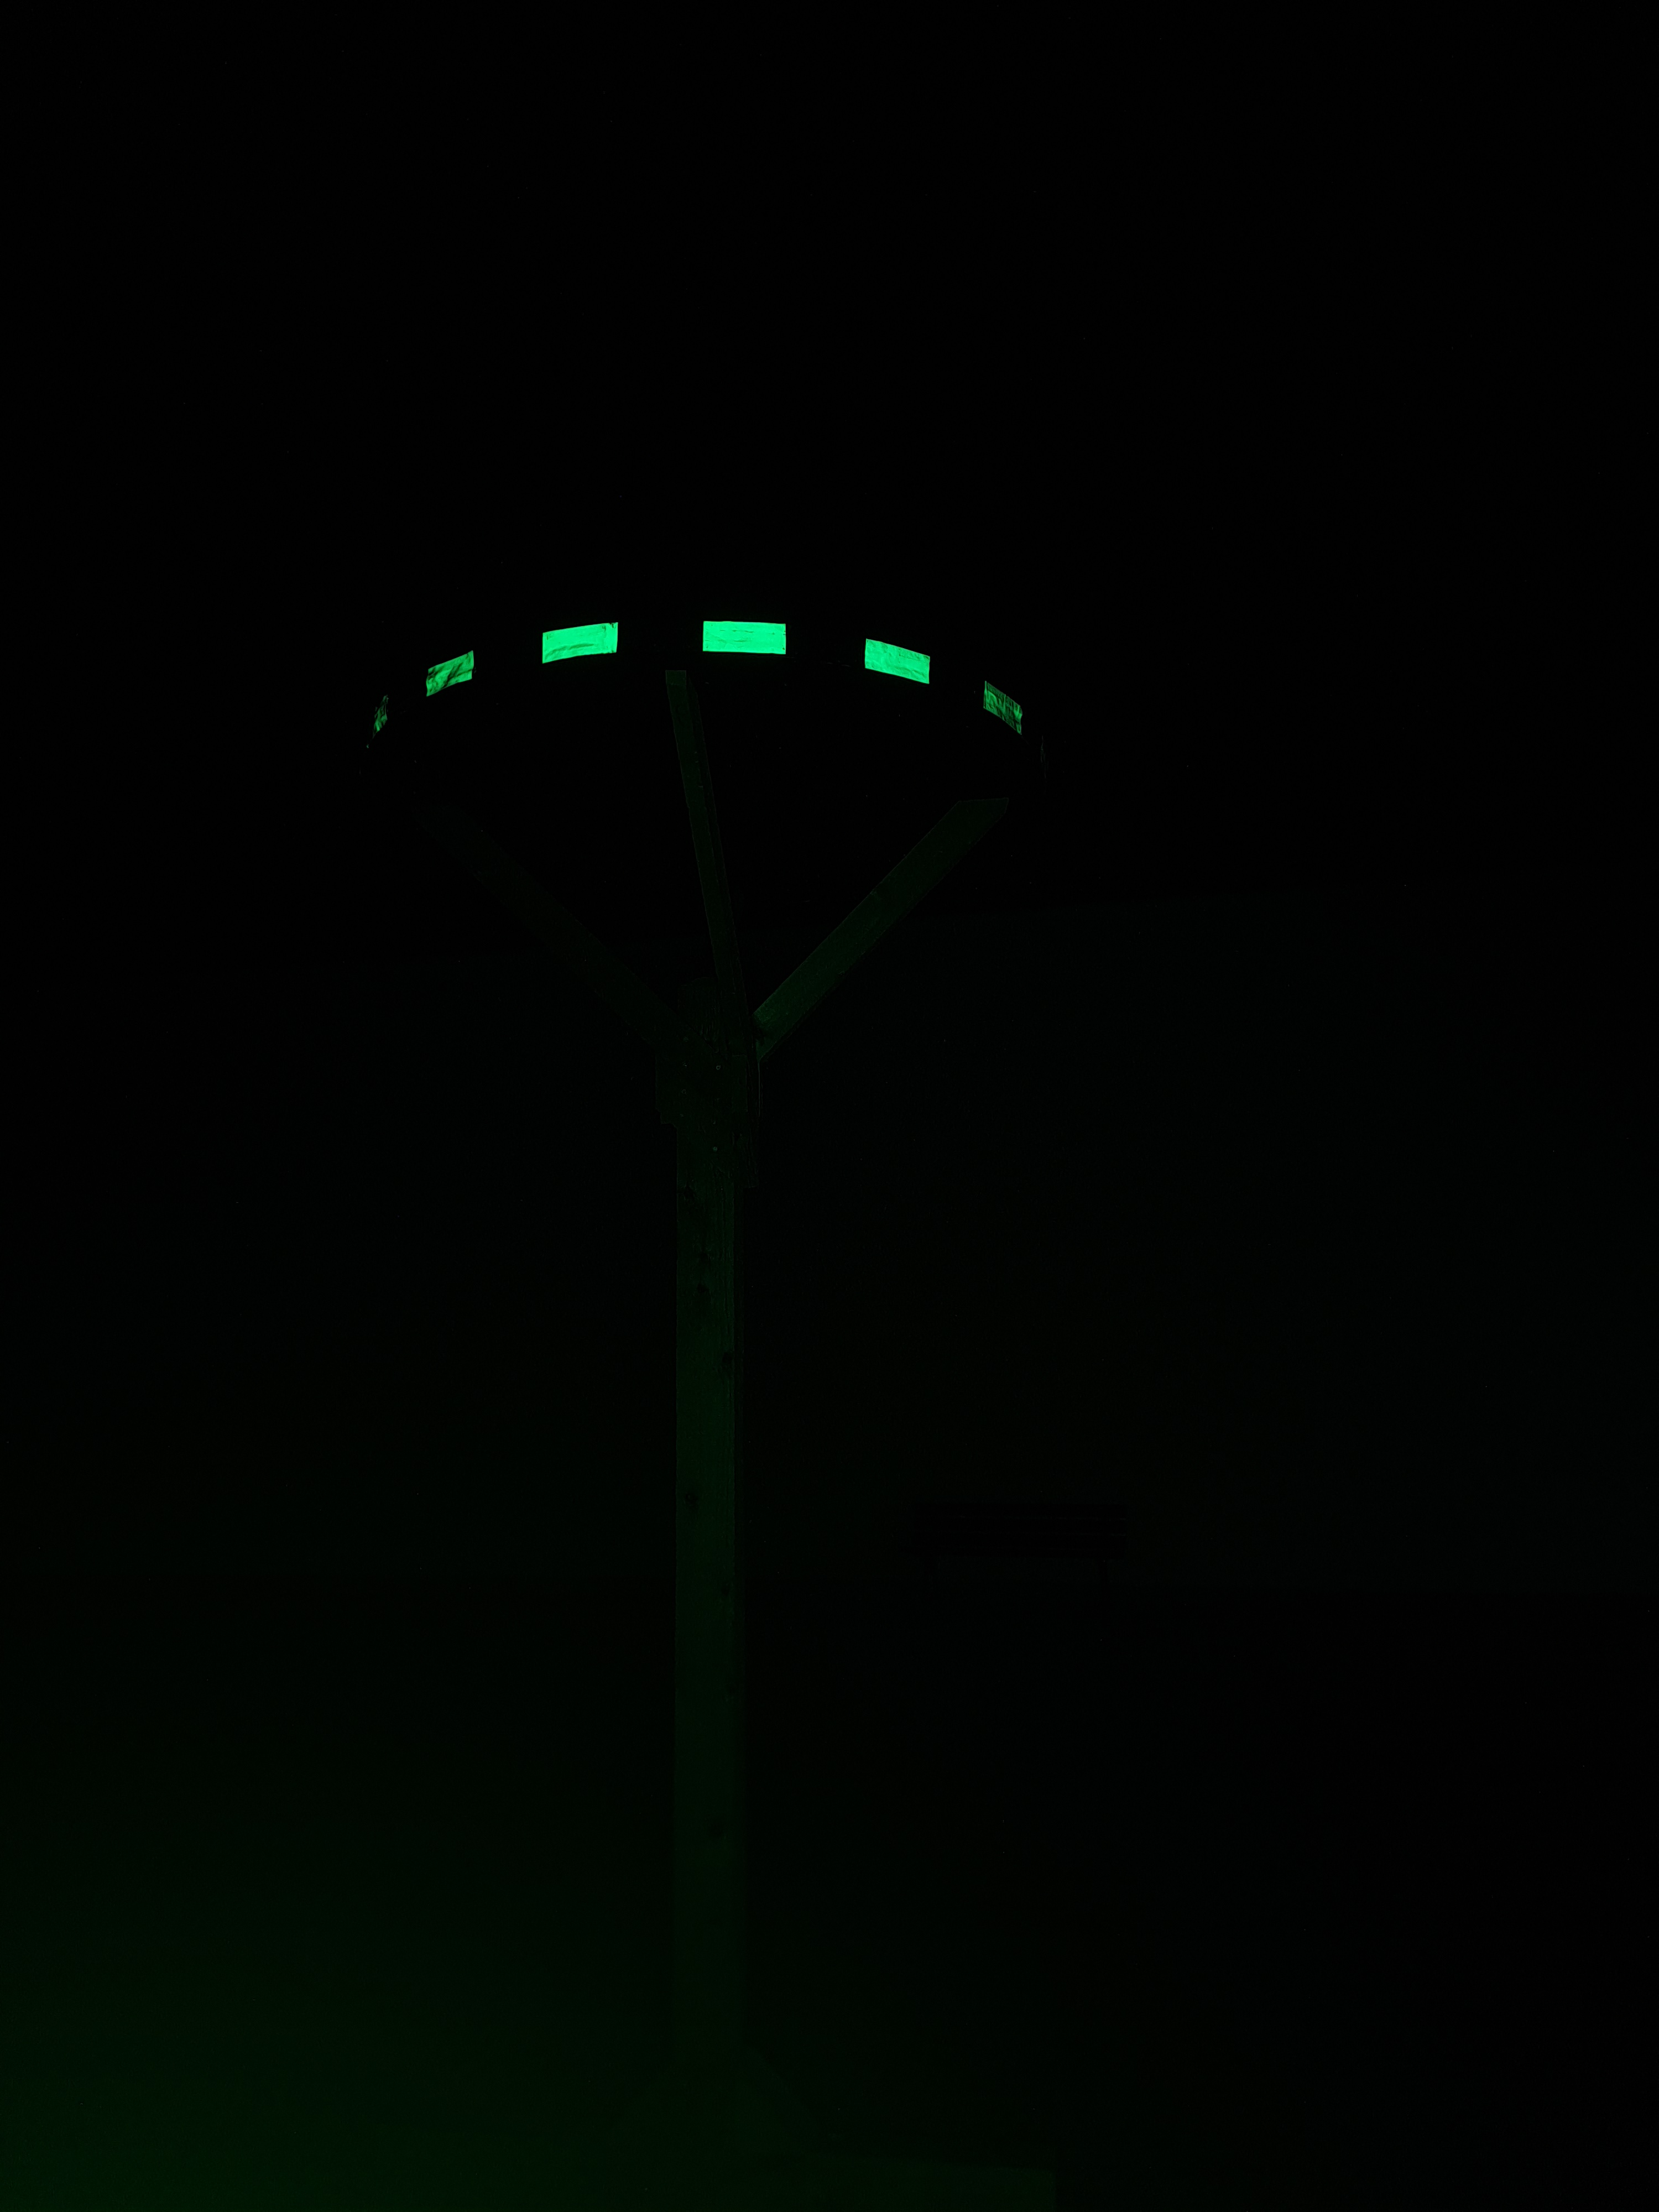hoop: (371, 610, 1030, 752)
